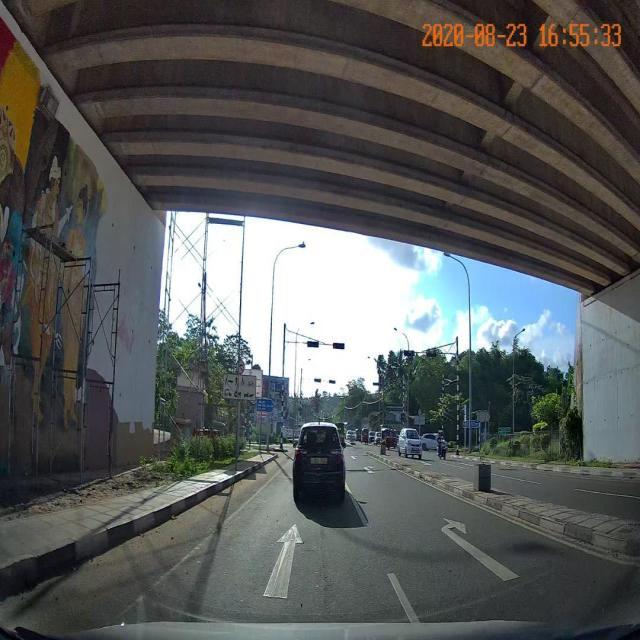Liniya 1: (105, 474, 278, 626), (391, 465, 639, 569), (386, 573, 424, 627), (346, 481, 371, 527), (574, 487, 640, 501), (492, 473, 542, 486)
Strelka vpered: (260, 521, 306, 601)
Strelka vpravo: (440, 517, 523, 584)
